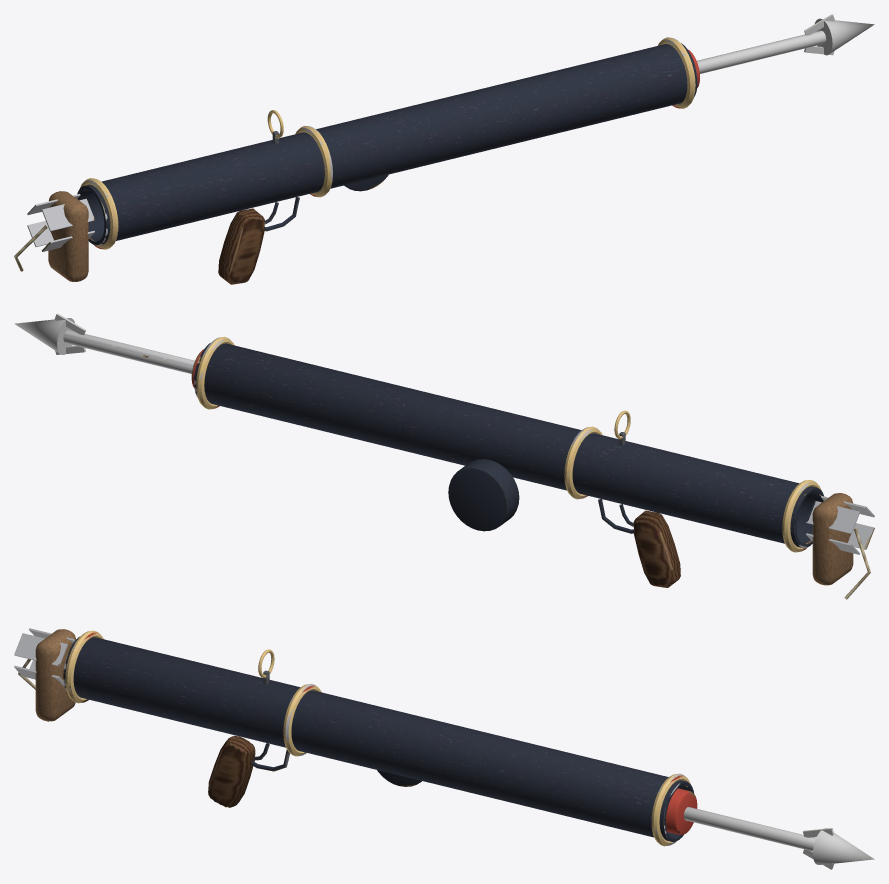
File: rocketharpoon.glb
The picture shows the model from 3 angles, top to bottom: view 1: azimuth 30°, elevation 25°; view 2: azimuth 150°, elevation 25°; view 3: azimuth 330°, elevation 25°; orthographic projection.
Parts seen in each view (by area): view 1: tube, shoulder_pad, pistol_grip, harpoon_shaft, harpoon_head, band-0.24, band0.54, band0.05, fin1; view 2: tube, tether_drum, shoulder_pad, pistol_grip, harpoon_shaft, harpoon_head, band-0.24, band0.05, band0.54, fin0; view 3: tube, shoulder_pad, pistol_grip, harpoon_shaft, harpoon_head, rocket, band0.54, band-0.24, band0.05, fin1.
Part boxes in pixels (x1,y1,x2,y2): tube: (77,43,697,245); shoulder_pad: (48,191,88,281); pistol_grip: (218,208,264,284); harpoon_shaft: (697,30,826,73); harpoon_head: (814,18,874,55); band-0.24: (79,178,118,249); band0.54: (658,37,695,108); band0.05: (295,126,332,197); fin1: (42,198,94,231); tube: (194,343,823,548); tether_drum: (448,459,519,531); shoulder_pad: (812,493,853,585); pistol_grip: (633,510,680,587); harpoon_shaft: (63,330,194,373); harpoon_head: (14,318,74,354); band-0.24: (782,479,821,552); band0.05: (564,426,602,499); band0.54: (196,336,234,409); fin0: (806,500,860,533); tube: (63,636,694,841); shoulder_pad: (35,629,76,721); pistol_grip: (208,735,255,807); harpoon_shaft: (683,807,815,851); harpoon_head: (813,828,874,864); rocket: (665,788,697,834); band0.54: (651,773,690,846); band-0.24: (65,630,103,703); band0.05: (283,683,321,756); fin1: (14,633,67,666).
Bounding box in the file's own units: 1.15 × 0.2105 × 0.118.
Materials: 1 (1 with a texture image).
